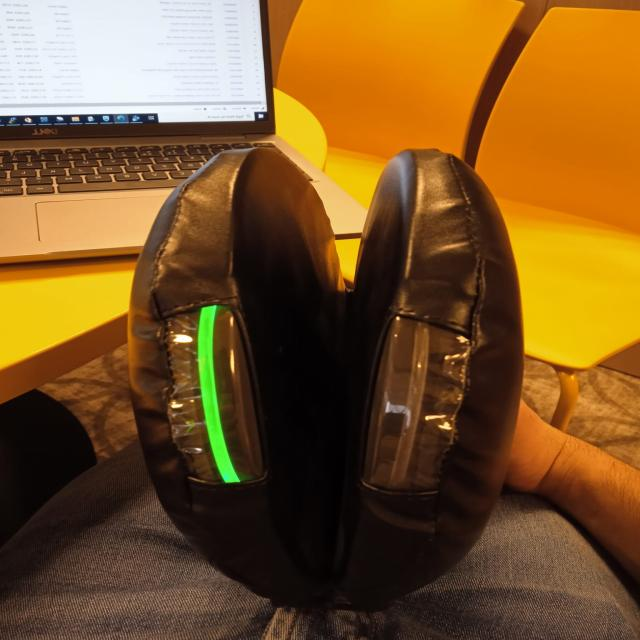trigger: (190, 301, 237, 487)
